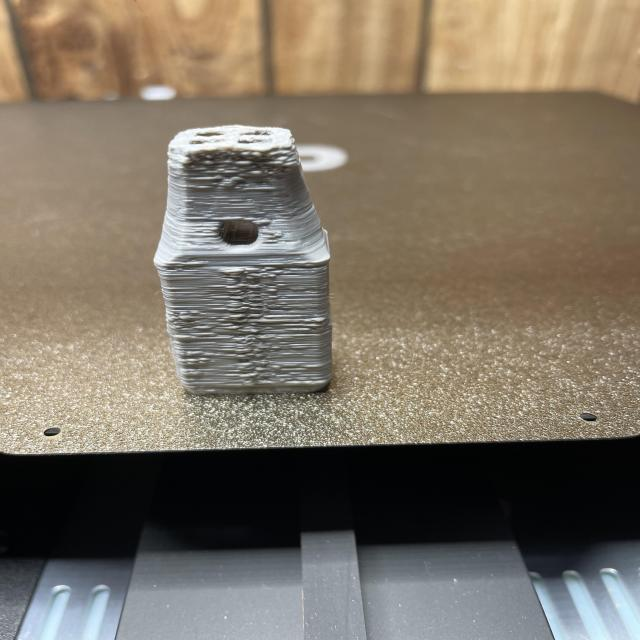Stringing: (156, 125, 336, 390)
